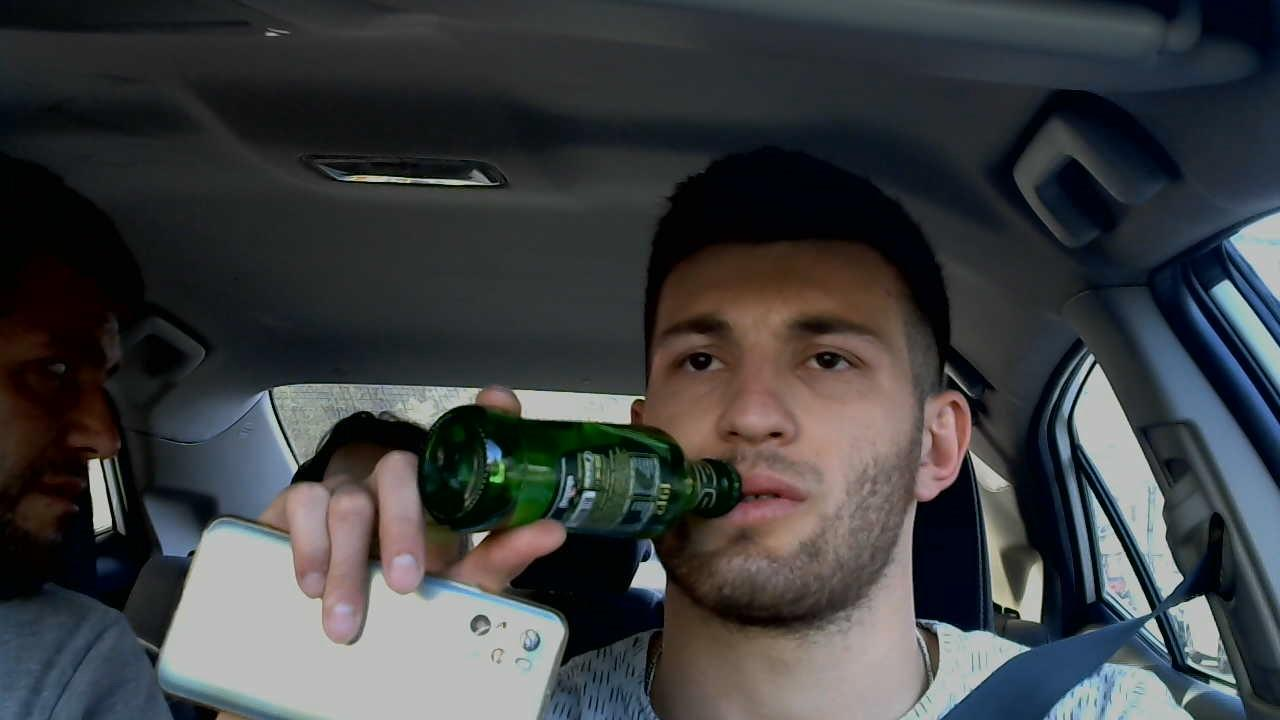Drinking: (412, 241, 974, 565)
